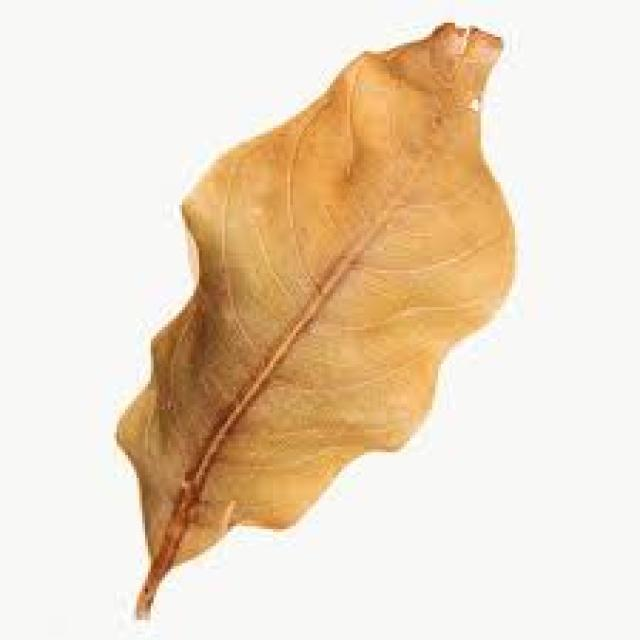leaf: (114, 20, 517, 620)
